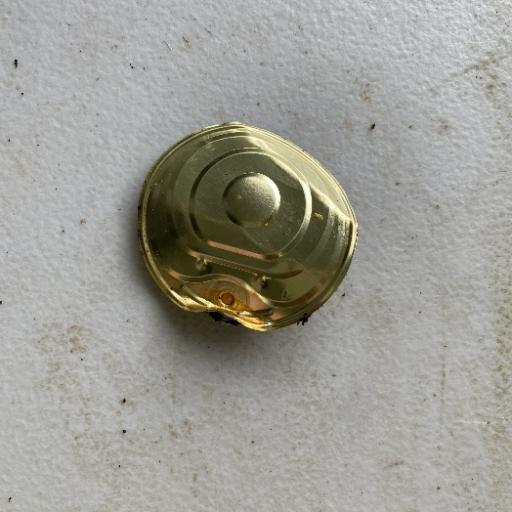Metal: (134, 119, 359, 334)
